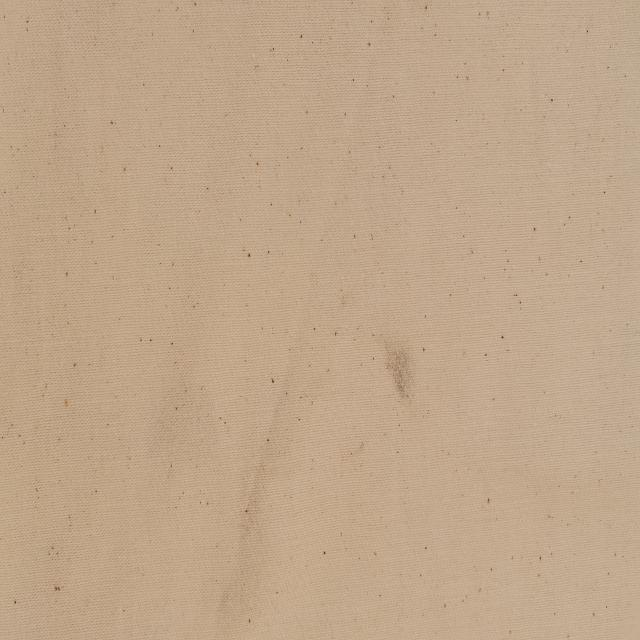taaaches: (381, 330, 416, 410)
